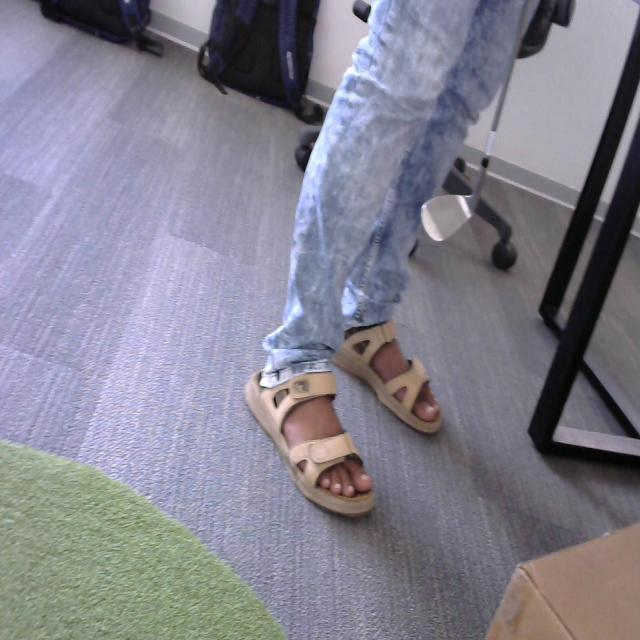ClubHead: (404, 180, 496, 248)
